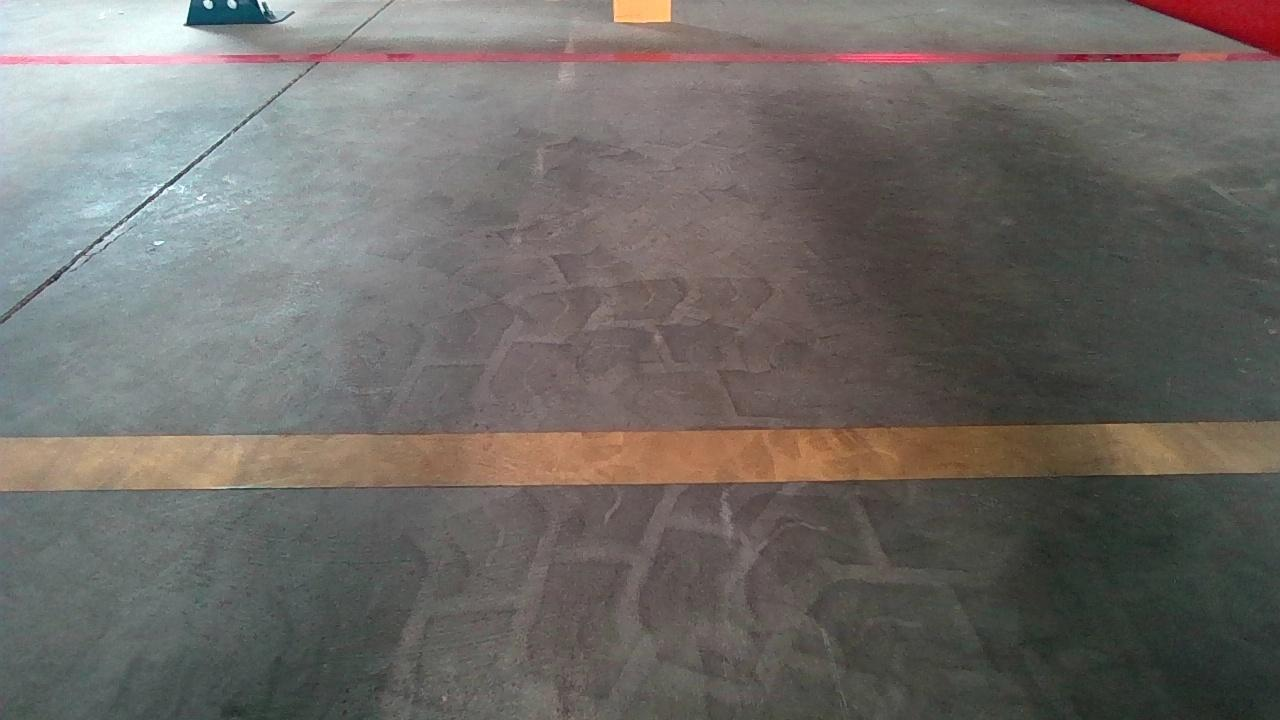orange_strip: (612, 0, 674, 25)
red_line: (0, 50, 1271, 67)
yellow_line: (8, 419, 1253, 490)
